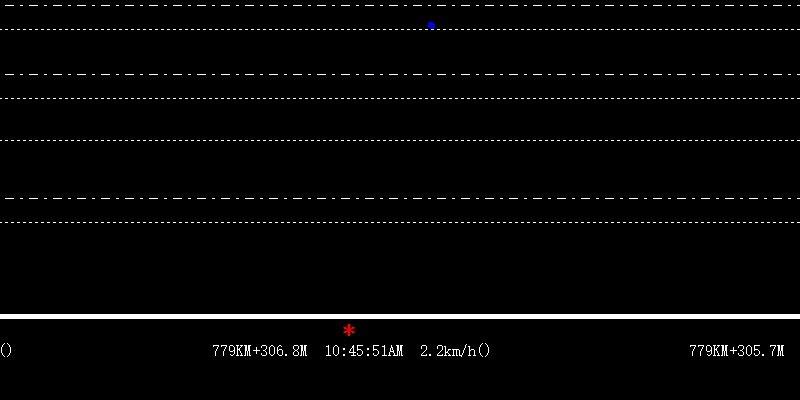face_1: (426, 21, 437, 32)
star: (338, 320, 360, 340)
